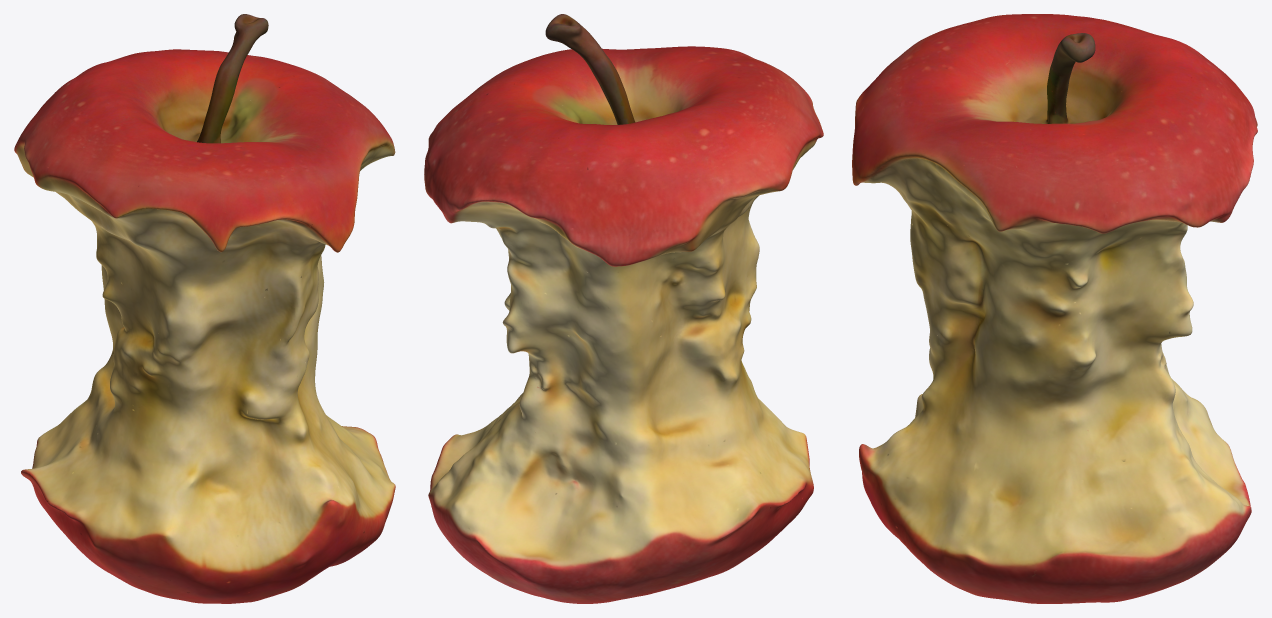
Rendered from Sprite_I.glb.
The picture shows the model from 3 angles, left to right: view 1: azimuth 30°, elevation 25°; view 2: azimuth 150°, elevation 25°; view 3: azimuth 270°, elevation 25°; orthographic projection. The views are drawn at different scales.
Size of the model in its own units: 1.34 by 2 by 1.36.
1 material, 1 textured.
